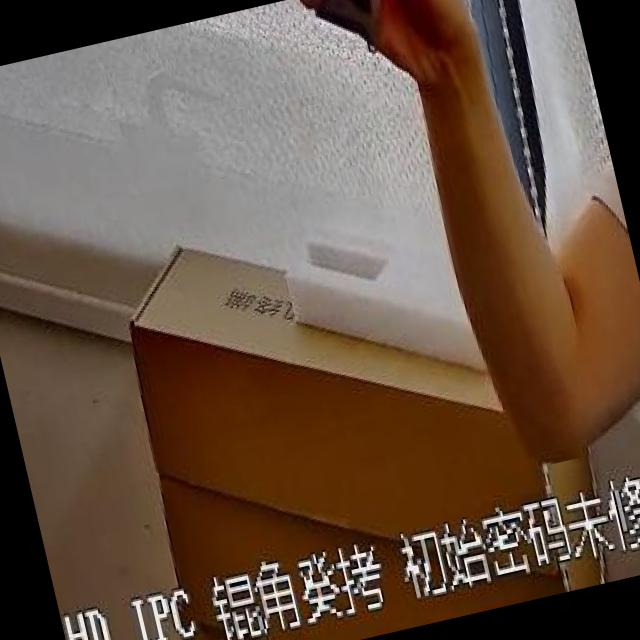Guns: (193, 0, 510, 85)
